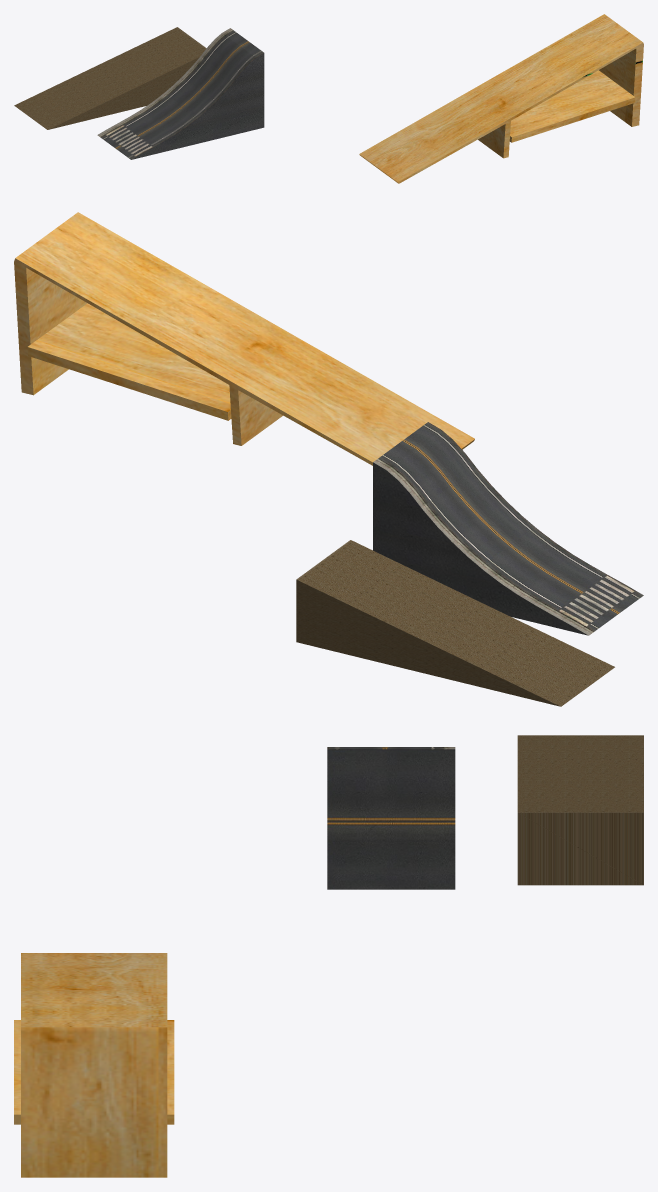
Rendered from Road Jumps.FBX.
The picture shows the model from 3 angles, top to bottom: view 1: azimuth 30°, elevation 25°; view 2: azimuth 150°, elevation 25°; view 3: azimuth 270°, elevation 25°; orthographic projection. The views are drawn at different scales.
Visible parts, largest first — view 1: Box004, Box003, Box002; view 2: Box004, Box003, Box002; view 3: Box004, Box002, Box003.
Boxes of the visible parts, x1,y1,x2,y2 form: Box004: (359,14,643,183); Box003: (97,28,264,159); Box002: (14,27,206,129); Box004: (14,212,474,465); Box003: (373,422,643,635); Box002: (296,540,614,706); Box004: (14,953,174,1177); Box002: (517,735,643,885); Box003: (327,747,455,889).
Bounding box in the file's own units: 1891 × 329 × 1181.
